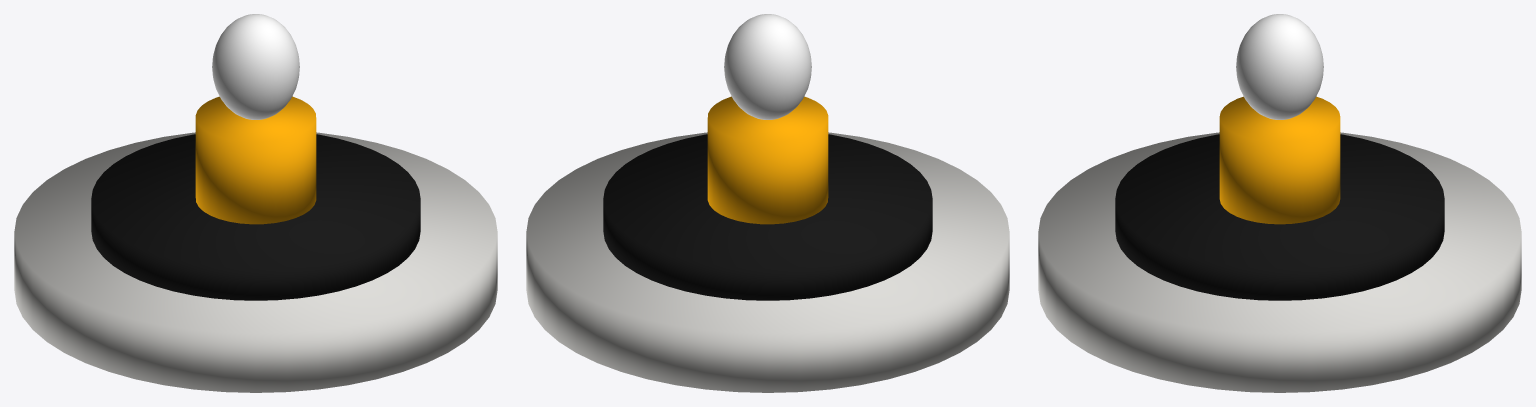
File: prop_fountain.glb
3 views of the same model, side by side, from view 1: azimuth 30°, elevation 25°; view 2: azimuth 150°, elevation 25°; view 3: azimuth 270°, elevation 25° (orthographic).
Parts seen in each view (by area): view 1: fountain outer ring, fountain black water, fountain yellow center, fountain white drop; view 2: fountain outer ring, fountain black water, fountain yellow center, fountain white drop; view 3: fountain outer ring, fountain black water, fountain yellow center, fountain white drop.
Boxes of the visible parts, x1,y1,x2,y2 form: fountain outer ring: [14, 132, 497, 392]; fountain black water: [91, 134, 420, 300]; fountain yellow center: [195, 96, 316, 224]; fountain white drop: [212, 14, 299, 119]; fountain outer ring: [526, 132, 1009, 392]; fountain black water: [603, 134, 932, 300]; fountain yellow center: [707, 96, 828, 224]; fountain white drop: [724, 14, 811, 119]; fountain outer ring: [1038, 132, 1521, 392]; fountain black water: [1115, 134, 1444, 300]; fountain yellow center: [1219, 96, 1340, 224]; fountain white drop: [1236, 14, 1323, 119].
Bounding box in the file's own units: 0.44 × 0.275 × 0.44.
